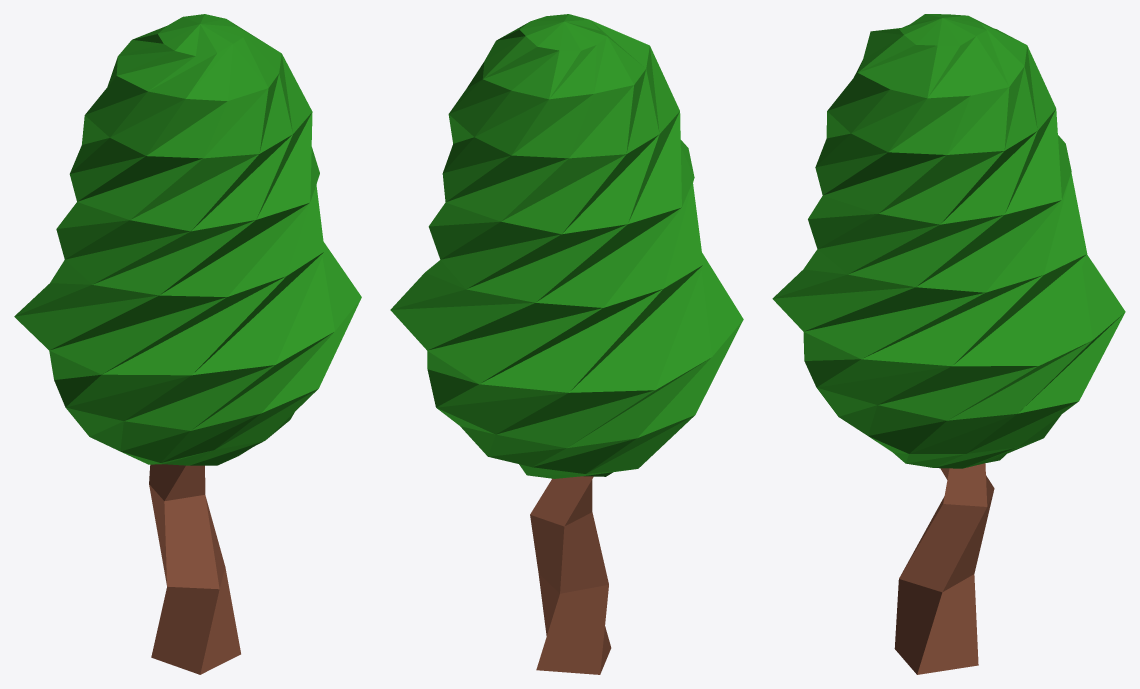
The model's file is Tree_14_summer_pal.fbx.
3 renders of one model, left to right at view 1: azimuth 30°, elevation 25°; view 2: azimuth 150°, elevation 25°; view 3: azimuth 270°, elevation 25°, orthographic. The views are drawn at different scales.
Visible parts, largest first — view 1: Tree_14_summer_pal; view 2: Tree_14_summer_pal; view 3: Tree_14_summer_pal.
Boxes of the visible parts, x1,y1,x2,y2 form: Tree_14_summer_pal: [14, 14, 361, 674]; Tree_14_summer_pal: [390, 14, 743, 674]; Tree_14_summer_pal: [772, 14, 1125, 674].
Bounding box in the file's own units: 104 × 223 × 111.
